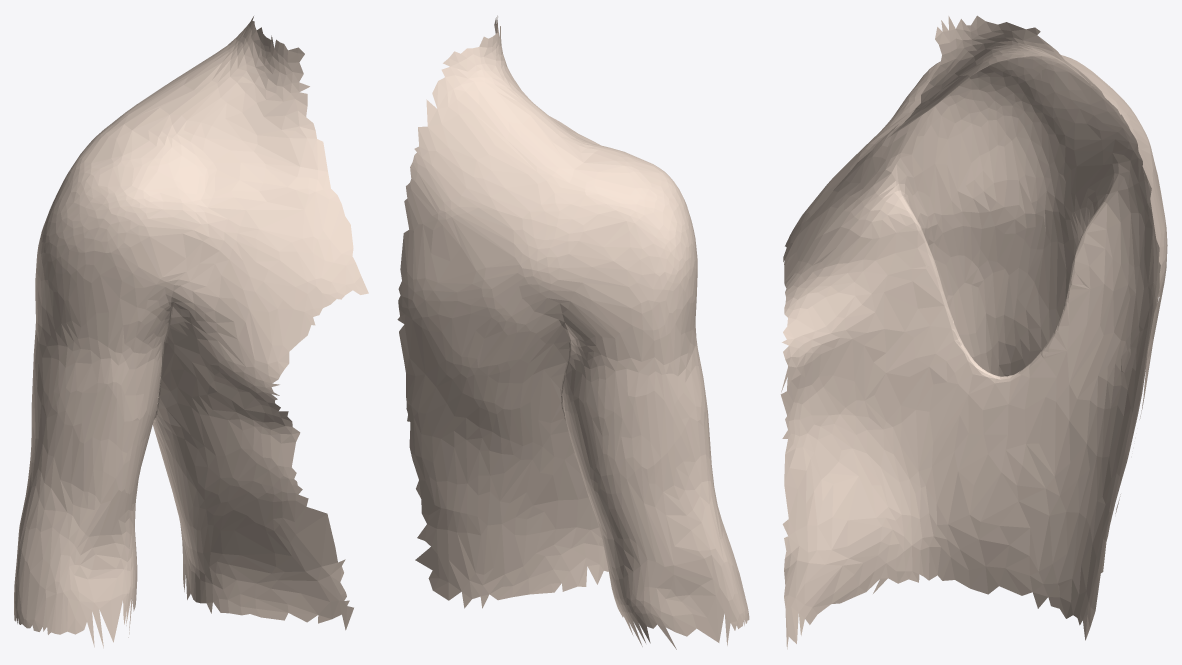
Rendered from hombro-piel.glb.
3 renders of one model, left to right at view 1: azimuth 30°, elevation 25°; view 2: azimuth 150°, elevation 25°; view 3: azimuth 270°, elevation 25°, orthographic. The views are drawn at different scales.
Visible parts, largest first — view 1: piel_del_hombro_y_el_brazo; view 2: piel_del_hombro_y_el_brazo; view 3: piel_del_hombro_y_el_brazo.
Boxes of the visible parts, left/top/right/bottom form: piel_del_hombro_y_el_brazo: left=14, top=16, right=368, bottom=648; piel_del_hombro_y_el_brazo: left=397, top=15, right=749, bottom=649; piel_del_hombro_y_el_brazo: left=780, top=15, right=1167, bottom=649.
Size of the model in its own units: 0.2416 by 0.4713 by 0.2549.
